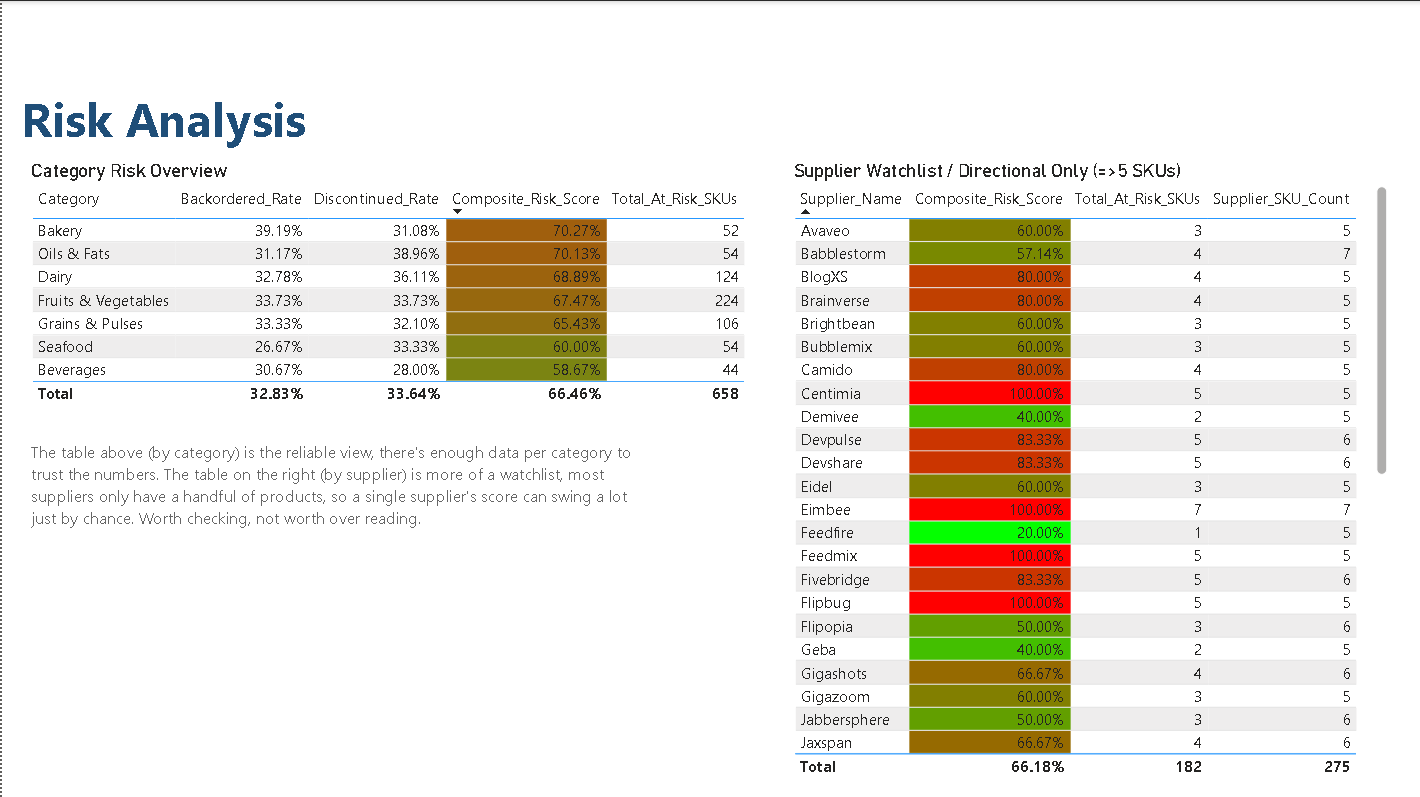

The page's visual inventory and layout, read from the dashboard file:
{"tool":"powerbi","page":{"name":"Risk Analysis","canvas":[1280,720],"ordinal":2},"visuals":[{"type":"tableEx","title":"Category Risk Overview","fields":{"Values":["Grocery_Inventory_and_Sales_Dataset.Category","Grocery_Inventory_and_Sales_Dataset.Backordered_Rate","Grocery_Inventory_and_Sales_Dataset.Discontinued_Rate","Grocery_Inventory_and_Sales_Dataset.Composite_Risk_Score","Grocery_Inventory_and_Sales_Dataset.Total_At_Risk_SKUs"]},"box":[22,142.7,687.5,227.8],"z":0},{"type":"tableEx","title":"Supplier Watchlist / Directional Only (=>5 SKUs)","fields":{"Values":["Grocery_Inventory_and_Sales_Dataset.Supplier_Name","Grocery_Inventory_and_Sales_Dataset.Composite_Risk_Score","Grocery_Inventory_and_Sales_Dataset.Total_At_Risk_SKUs","Grocery_Inventory_and_Sales_Dataset.Supplier_SKU_Count"]},"box":[709.4,142.7,544.8,561.2],"z":1000},{"type":"textbox","box":[22,391.1,555.7,108.4],"z":2000},{"type":"textbox","box":[0,72.1,1280,69.7],"z":2001}]}

Visuals, with their boxes in screenshot pixels (x1, y1, x2, y2), scaled from the page's 1280x720 canvas onto the 1420x797 screenshot:
"Category Risk Overview" tableEx: 24 158 787 410
"Supplier Watchlist / Directional Only (=>5 SKUs)" tableEx: 787 158 1391 779
textbox: 24 433 641 553
textbox: 0 80 1419 157
